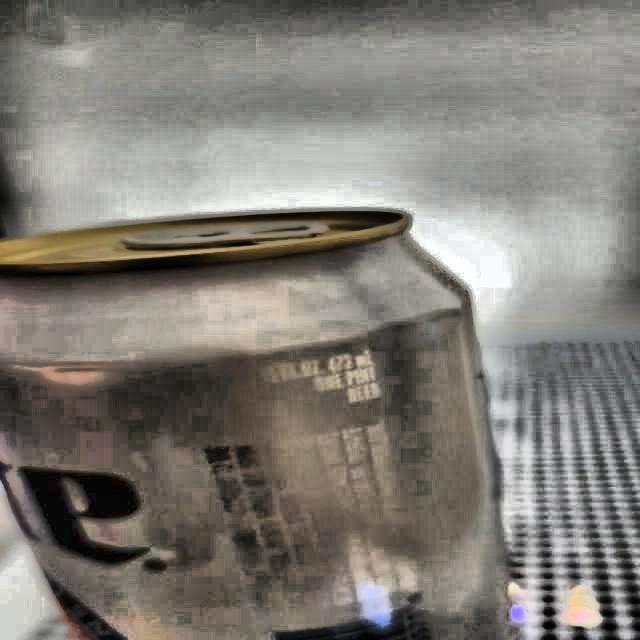can: (0, 208, 539, 640)
